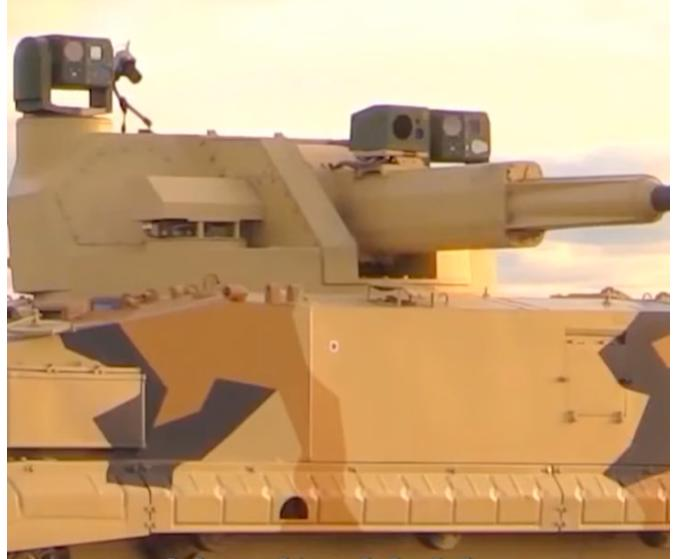MIL_SPG: (8, 35, 669, 550)
